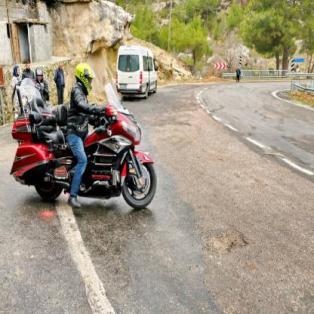Motocicleta: (3, 76, 162, 208)
